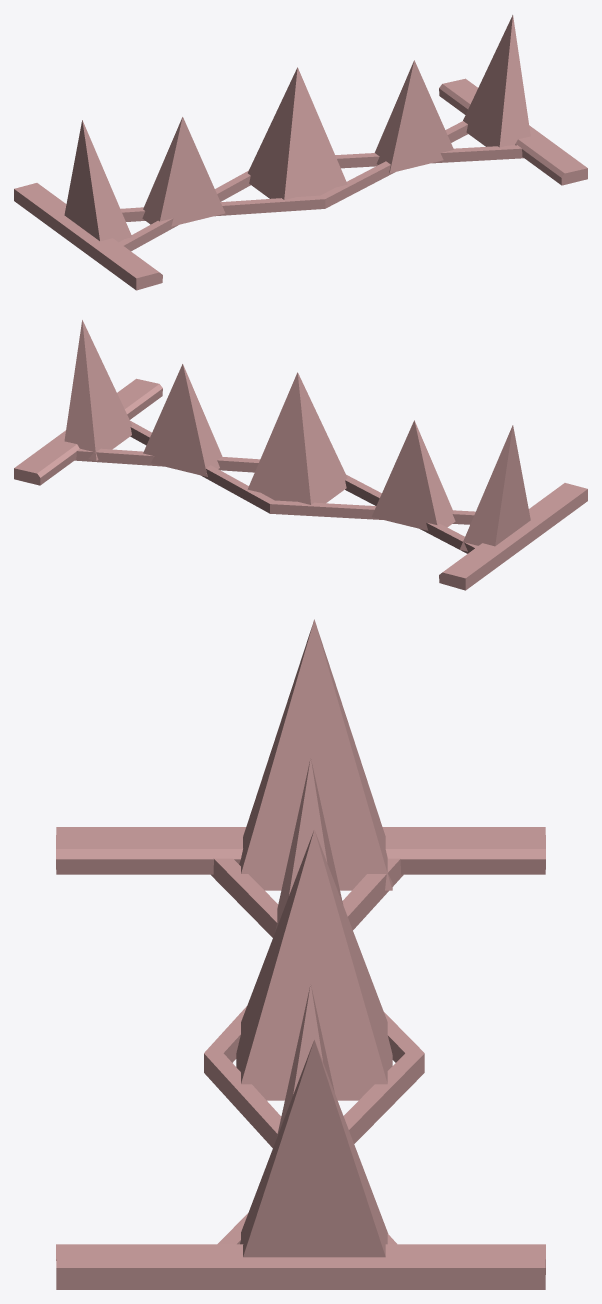
File: Spikes (1).fbx
3 views of the same model, one above another, from view 1: azimuth 30°, elevation 25°; view 2: azimuth 150°, elevation 25°; view 3: azimuth 270°, elevation 25° (orthographic). The views are drawn at different scales.
Visible parts, largest first — view 1: Polyadd; view 2: Polyadd; view 3: Polyadd.
Part boxes in pixels (x1,y1,x2,y2): Polyadd: (14,15,587,290); Polyadd: (14,320,587,590); Polyadd: (56,619,545,1289).
Size of the model in its own units: 22.49 by 5.79 by 10.57.
